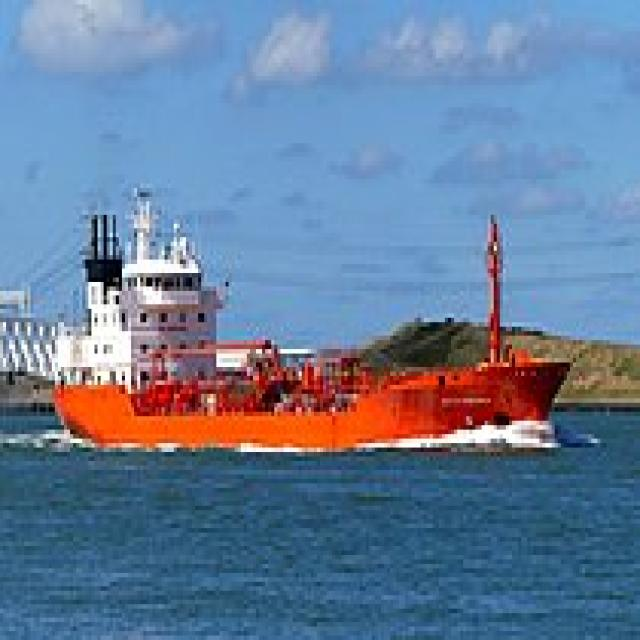Tanker: (43, 175, 573, 448)
